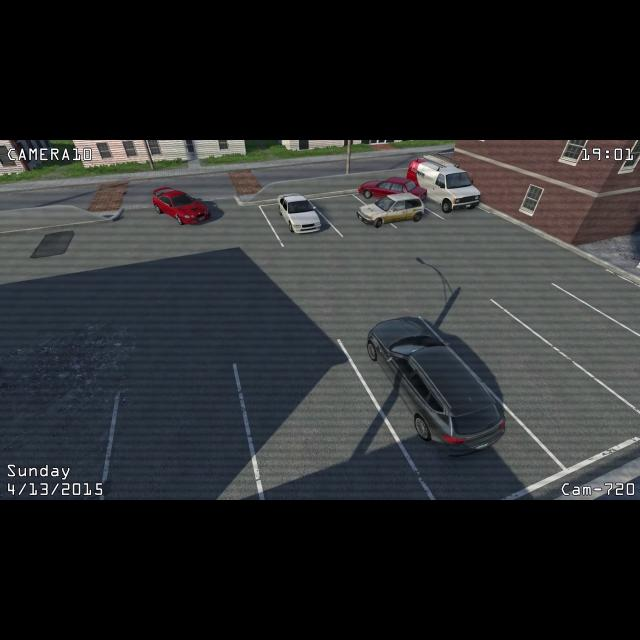accident: (357, 177, 429, 229)
